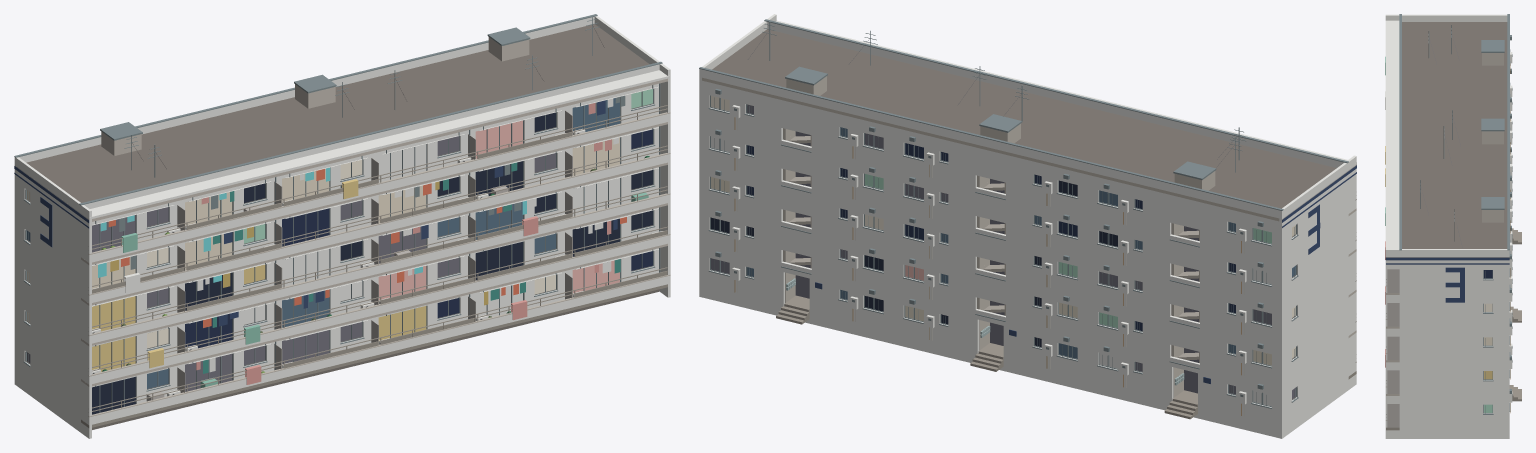
File: tb_danchi_5f_01_b.fbx
The picture shows the model from 3 angles, left to right: view 1: azimuth 30°, elevation 25°; view 2: azimuth 150°, elevation 25°; view 3: azimuth 270°, elevation 25°; orthographic projection. The views are drawn at different scales.
Visible parts, largest first — view 1: tb_danchi_5f_01_b; view 2: tb_danchi_5f_01_b; view 3: tb_danchi_5f_01_b.
Part boxes in pixels (x1,y1,x2,y2): tb_danchi_5f_01_b: (14, 14, 670, 438); tb_danchi_5f_01_b: (699, 14, 1356, 438); tb_danchi_5f_01_b: (1385, 14, 1521, 438).
Size of what is drawn, in the model's own units: 40.62 by 17.3 by 9.96.
Materials: 3 (3 with a texture image).
